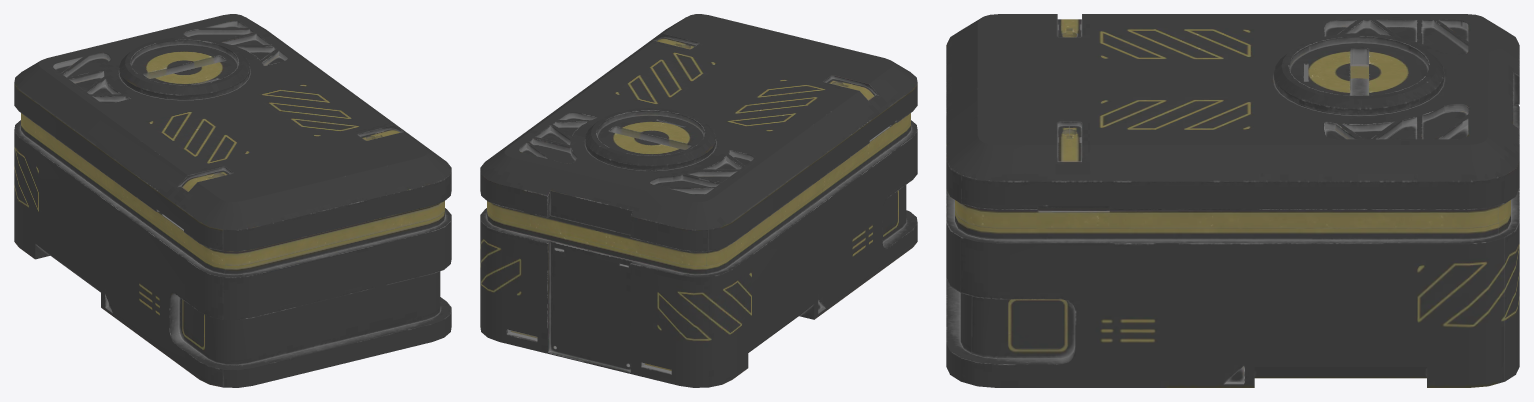
File: c061-opt.glb
The picture shows the model from 3 angles, left to right: view 1: azimuth 30°, elevation 25°; view 2: azimuth 150°, elevation 25°; view 3: azimuth 270°, elevation 25°; orthographic projection. The views are drawn at different scales.
Visible parts, largest first — view 1: Cube.061; view 2: Cube.061; view 3: Cube.061.
Boxes of the visible parts, x1=… form: Cube.061: x1=14, y1=14, x2=451, y2=387; Cube.061: x1=480, y1=14, x2=917, y2=387; Cube.061: x1=946, y1=14, x2=1519, y2=387.
Size of the model in its own units: 1.33 by 0.9568 by 2.05.
1 material, 1 textured.
